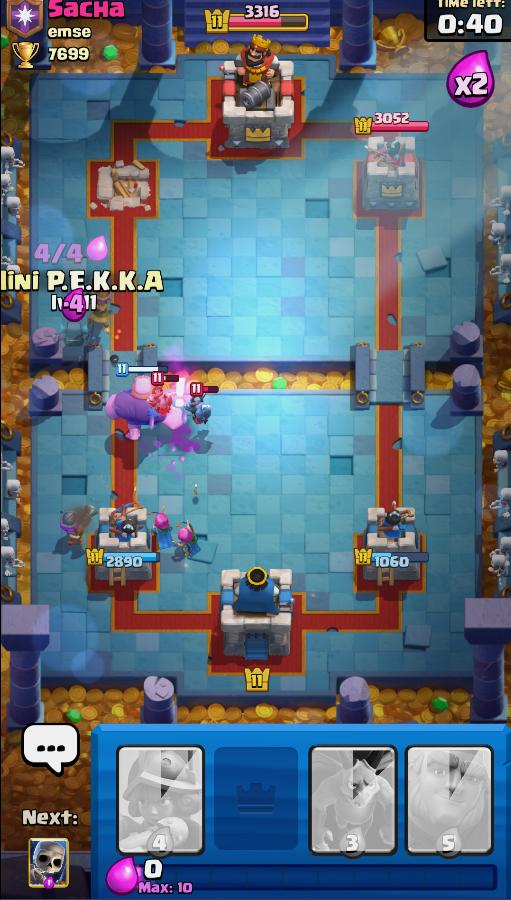archere: (148, 507, 176, 547), (177, 519, 203, 559)
gargouille: (185, 393, 218, 427), (148, 388, 175, 414)
geant: (107, 376, 187, 440)
mini_PEKKA: (51, 321, 96, 348)
mousquetaire: (88, 280, 115, 328), (60, 506, 90, 549)
